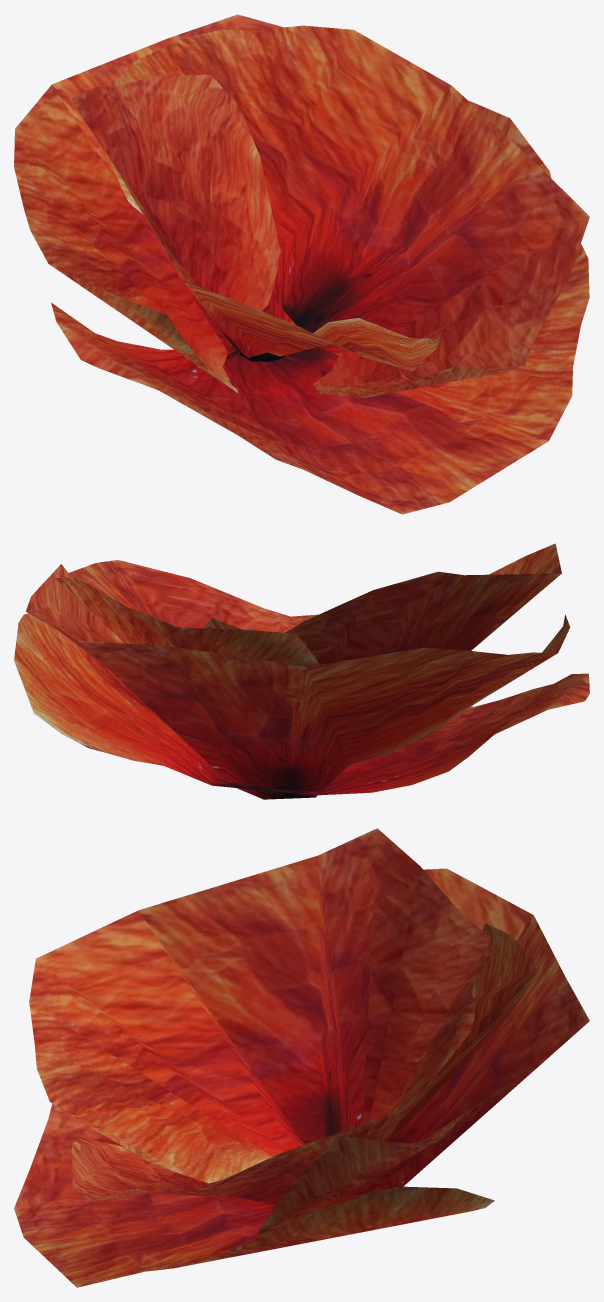
The model's file is poppy.glb.
The picture shows the model from 3 angles, top to bottom: view 1: azimuth 30°, elevation 25°; view 2: azimuth 150°, elevation 25°; view 3: azimuth 270°, elevation 25°; orthographic projection. The views are drawn at different scales.
Visible parts, largest first — view 1: Object_4; view 2: Object_4; view 3: Object_4.
Boxes of the visible parts, bbox=[...] form: Object_4: bbox=[14, 14, 589, 514]; Object_4: bbox=[14, 543, 589, 799]; Object_4: bbox=[14, 828, 589, 1287].
Size of the model in its own units: 0.3571 by 0.208 by 0.346.
2 materials, 1 textured.
